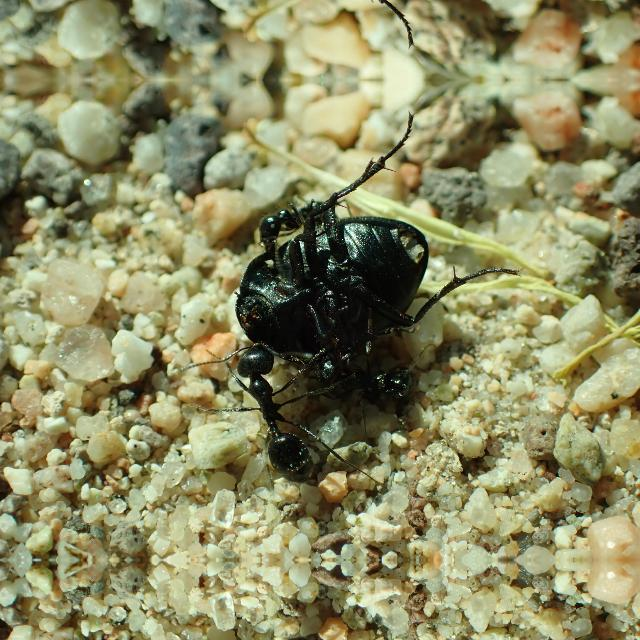Messor: (219, 336, 339, 482), (237, 179, 331, 247)
